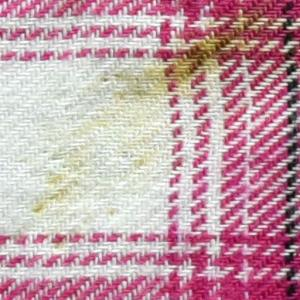Oil Stain: (25, 11, 290, 254)
